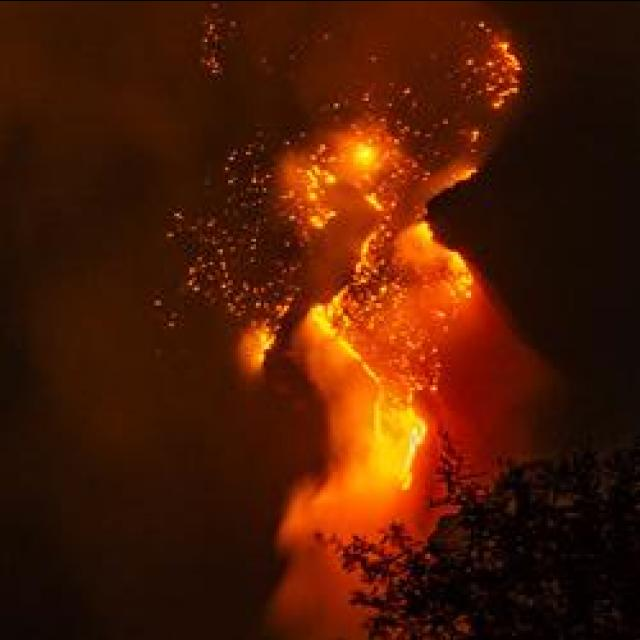fire: (376, 404, 424, 491), (444, 250, 474, 300), (309, 307, 342, 347), (248, 332, 274, 365), (412, 222, 437, 250), (352, 146, 376, 166)
smoke: (4, 4, 200, 158), (286, 1, 464, 105), (447, 336, 535, 460), (313, 354, 375, 461), (274, 563, 351, 640), (280, 488, 374, 528)
